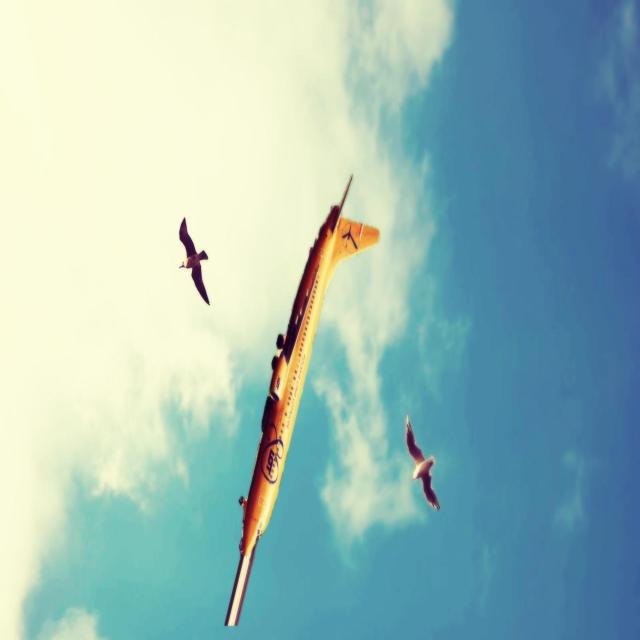airplane: (224, 172, 380, 626)
